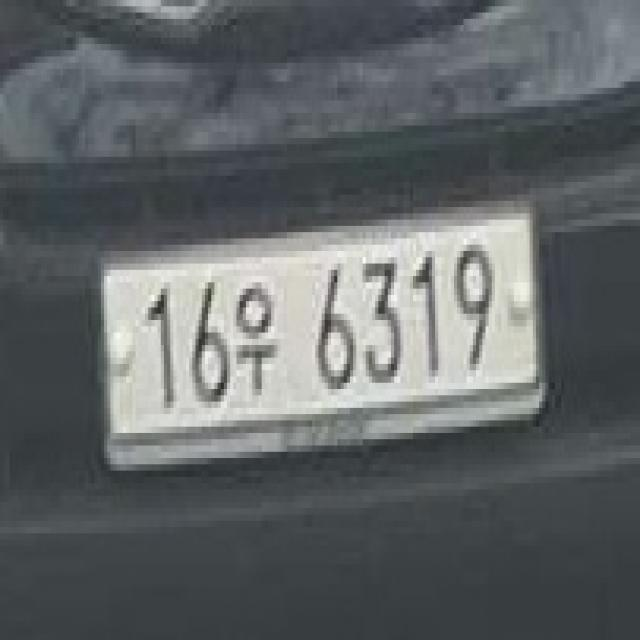1: (139, 269, 183, 426), (407, 238, 448, 396)
3: (356, 251, 407, 402)
6: (186, 264, 233, 421), (312, 257, 356, 402)
9: (448, 226, 498, 389)
license_plate: (88, 170, 561, 490)
u: (233, 270, 281, 414)
